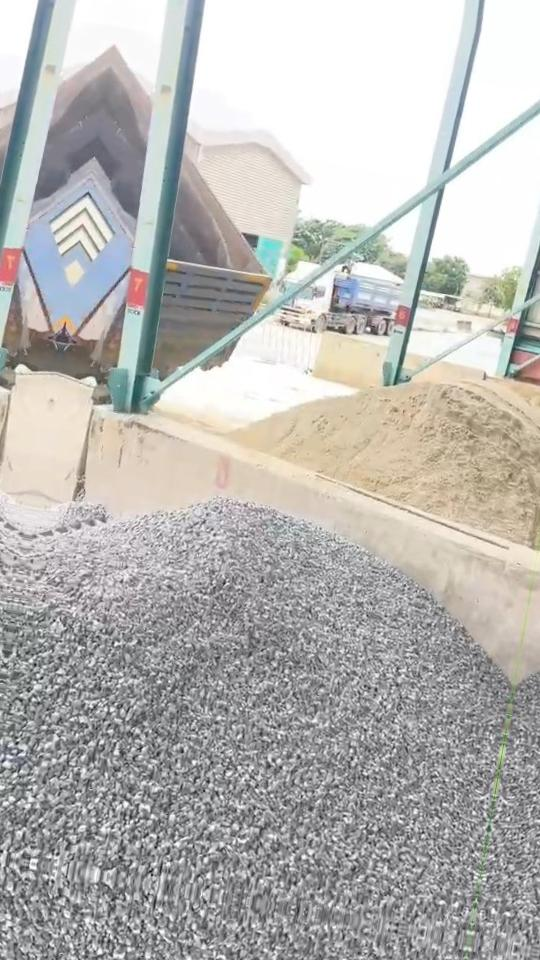gravel: (0, 498, 510, 938), (24, 500, 107, 554)
sand: (231, 381, 540, 545), (486, 379, 540, 438)
